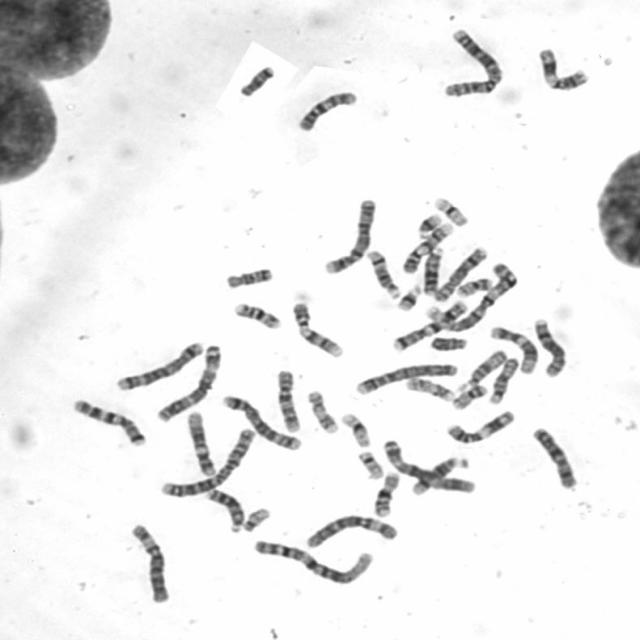A1: (424, 262, 520, 332), (253, 539, 374, 585)
A2: (160, 429, 257, 498), (436, 26, 507, 98)
A3: (382, 437, 476, 495), (156, 344, 221, 423)
B4: (323, 196, 378, 275), (354, 363, 458, 396)
B5: (115, 341, 208, 393), (222, 394, 302, 450)
C10: (296, 91, 360, 132), (275, 368, 301, 434)
C11: (536, 46, 589, 92), (445, 411, 515, 444)
C12: (489, 326, 539, 375), (184, 410, 217, 476)
C6: (128, 521, 171, 605), (305, 513, 399, 550)
C7: (391, 301, 468, 354), (72, 398, 149, 448)
C8: (433, 246, 489, 302), (532, 317, 568, 378)
C9: (291, 302, 345, 359), (402, 222, 455, 274)
D13: (204, 488, 244, 534), (422, 247, 445, 296)
D14: (411, 457, 471, 495), (365, 248, 400, 300)
D15: (488, 356, 520, 405), (468, 349, 508, 385)
E16: (372, 470, 401, 518), (234, 302, 282, 330)
E17: (307, 390, 340, 434), (404, 376, 456, 403)
E18: (240, 66, 278, 98), (225, 266, 274, 289)
F19: (431, 198, 470, 228), (340, 412, 372, 447)
F20: (453, 384, 487, 410), (456, 278, 494, 298)
G21: (417, 212, 443, 242), (396, 285, 424, 312)
G22: (357, 451, 385, 479), (242, 507, 272, 533)
X: (530, 426, 578, 490)
Y: (430, 336, 470, 352)
